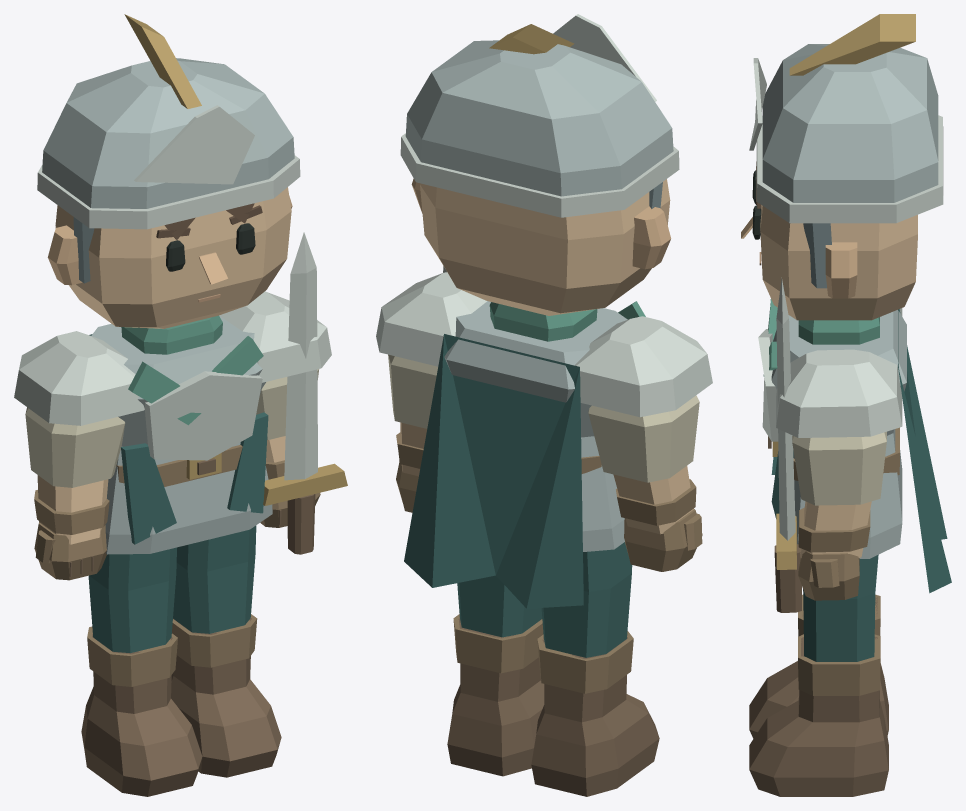
File: knight.glb
3 views of the same model, side by side, from view 1: azimuth 30°, elevation 25°; view 2: azimuth 150°, elevation 25°; view 3: azimuth 270°, elevation 25° (orthographic). The views are drawn at different scales.
Parts seen in each view (by area): view 1: Helmet plate shell, Sculpted jaw cheeks forehead, Tunic tailored body, Boot shaped ankle and toe L, Boot shaped ankle and toe R, Forged shoulder plate, Breastplate, Trouser L, Trouser R, Sword blade, Helmet crown plane, Sleeve L (+18 smaller); view 2: Knight folded cape, Helmet plate shell, Sculpted jaw cheeks forehead, Tunic tailored body, Boot shaped ankle and toe L, Forged shoulder plate, Boot shaped ankle and toe R, Sleeve L, Trouser L, Helmet brow rim, Forged shoulder plate.001, Trouser R (+12 smaller); view 3: Helmet plate shell, Boot shaped ankle and toe R, Sculpted jaw cheeks forehead, Forged shoulder plate.001, Sleeve R, Tunic tailored body, Trouser R, Helmet brow rim, Knight folded cape, Helmet crest, Boot cuff R, Sword blade (+15 smaller).
Part boxes in pixels (x1=…): Helmet plate shell: x1=42, y1=58, x2=294, y2=208; Sculpted jaw cheeks forehead: x1=55, y1=187, x2=291, y2=328; Tunic tailored body: x1=91, y1=315, x2=272, y2=554; Boot shaped ankle and toe L: x1=81, y1=633, x2=202, y2=796; Boot shaped ankle and toe R: x1=171, y1=618, x2=281, y2=777; Forged shoulder plate: x1=14, y1=331, x2=144, y2=425; Breastplate: x1=144, y1=371, x2=262, y2=460; Trouser L: x1=88, y1=547, x2=176, y2=653; Trouser R: x1=173, y1=525, x2=256, y2=633; Sword blade: x1=284, y1=232, x2=317, y2=480; Helmet crown plane: x1=134, y1=105, x2=254, y2=184; Sleeve L: x1=25, y1=407, x2=125, y2=487; Knight folded cape: x1=404, y1=334, x2=583, y2=608; Helmet plate shell: x1=405, y1=40, x2=673, y2=196; Sculpted jaw cheeks forehead: x1=420, y1=179, x2=670, y2=315; Tunic tailored body: x1=444, y1=301, x2=627, y2=551; Boot shaped ankle and toe L: x1=531, y1=637, x2=659, y2=796; Forged shoulder plate: x1=574, y1=316, x2=712, y2=417; Boot shaped ankle and toe R: x1=447, y1=618, x2=544, y2=776; Sleeve L: x1=588, y1=395, x2=699, y2=482; Trouser L: x1=541, y1=542, x2=632, y2=657; Helmet brow rim: x1=400, y1=133, x2=679, y2=217; Forged shoulder plate.001: x1=376, y1=272, x2=486, y2=366; Trouser R: x1=457, y1=575, x2=542, y2=637; Helmet plate shell: x1=762, y1=44, x2=938, y2=202; Boot shaped ankle and toe R: x1=749, y1=637, x2=888, y2=796; Sculpted jaw cheeks forehead: x1=760, y1=205, x2=917, y2=320; Forged shoulder plate.001: x1=776, y1=349, x2=902, y2=437; Sleeve R: x1=792, y1=431, x2=886, y2=505; Tunic tailored body: x1=771, y1=310, x2=906, y2=558; Trouser R: x1=803, y1=554, x2=878, y2=661; Helmet brow rim: x1=756, y1=115, x2=943, y2=223; Knight folded cape: x1=898, y1=309, x2=951, y2=593; Helmet crest: x1=789, y1=14, x2=915, y2=75; Boot cuff R: x1=798, y1=634, x2=880, y2=695; Sword blade: x1=776, y1=277, x2=795, y2=540.
Size of the model in its own units: 0.765 by 1.81 by 0.468.
